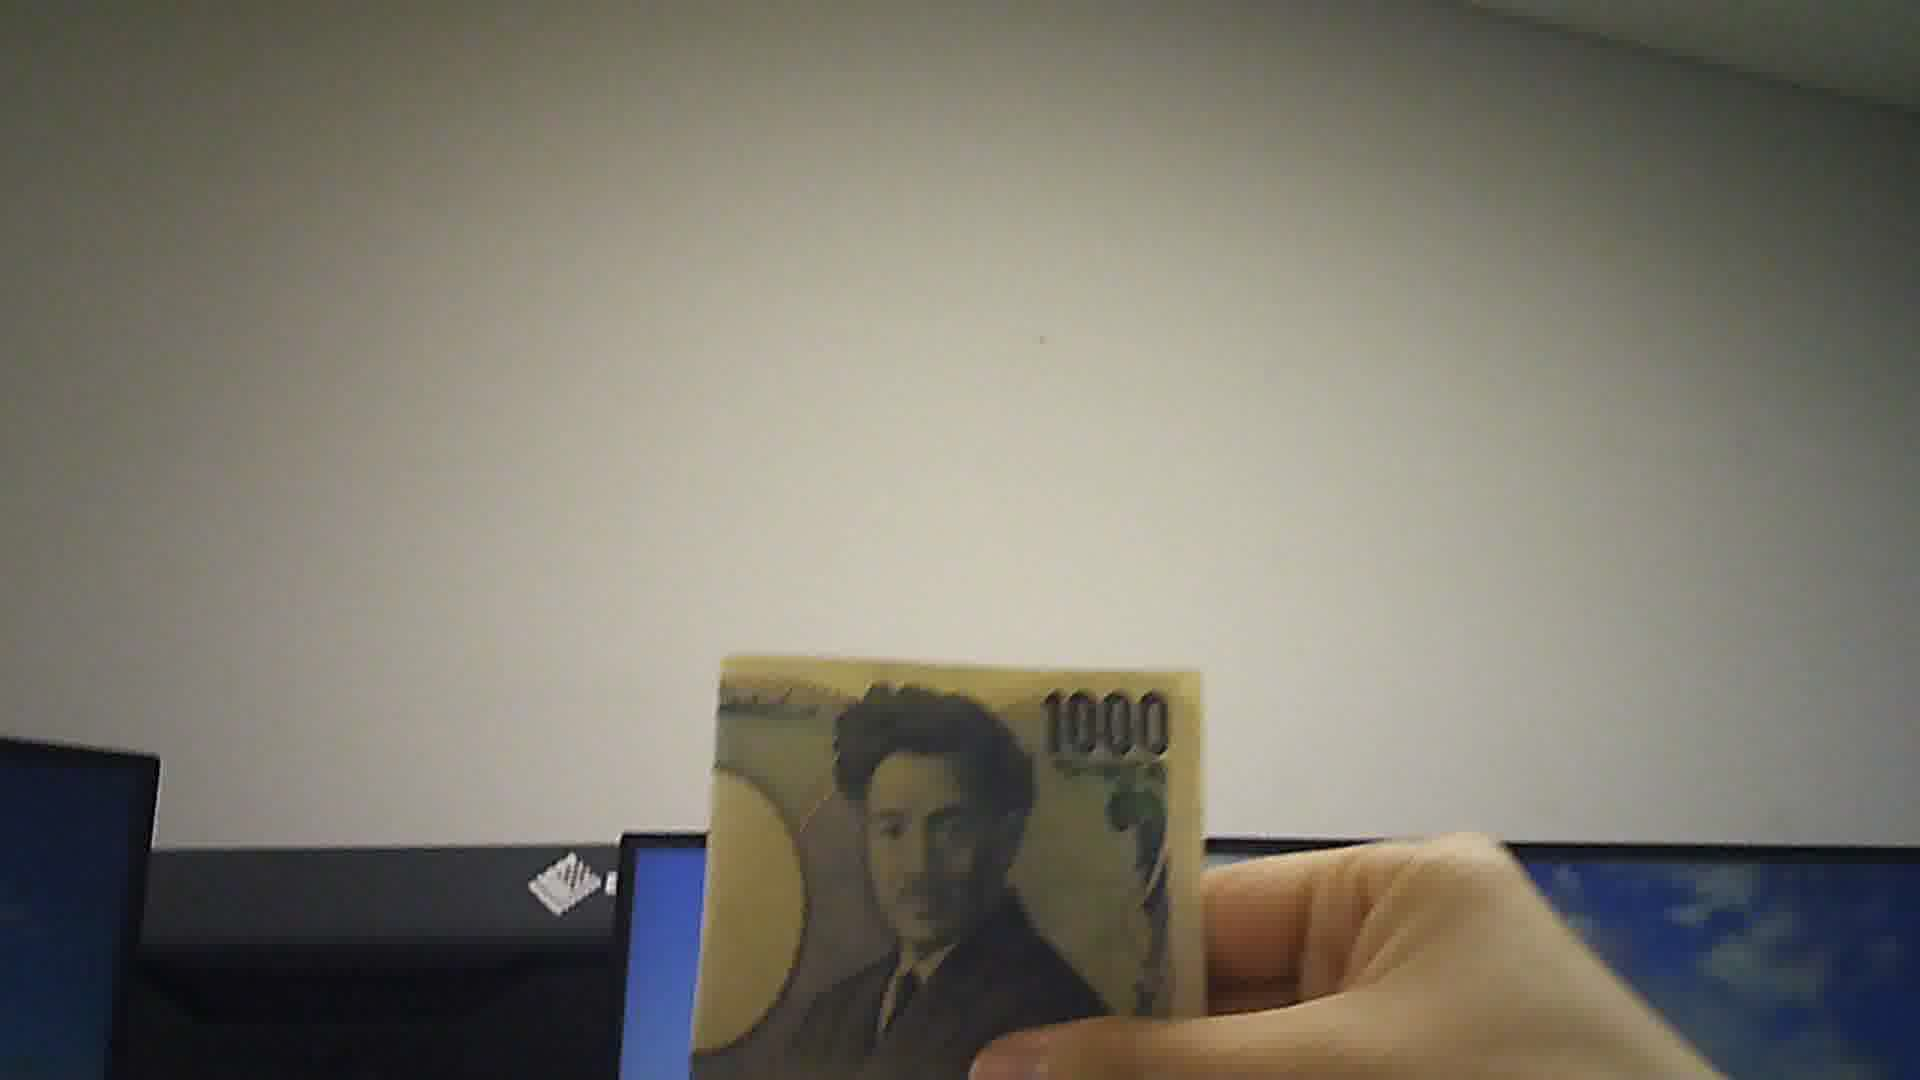1,000 Yen: (688, 636, 1205, 1079)
